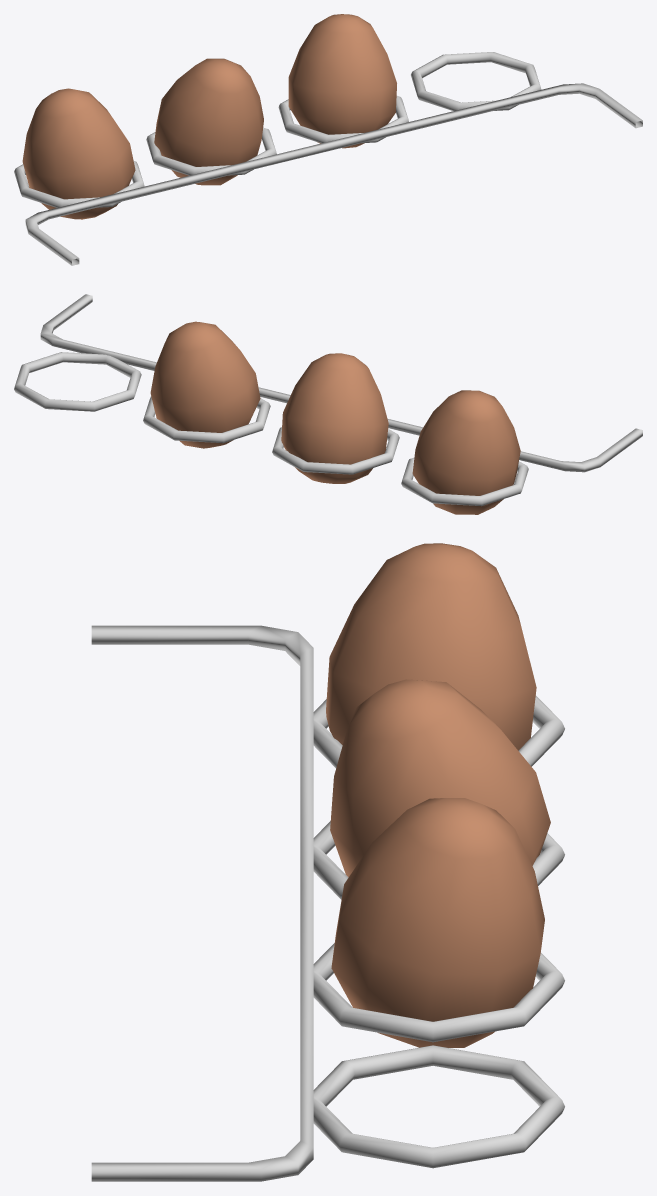
File: egg_shelf01.fbx
3 views of the same model, one above another, from view 1: azimuth 30°, elevation 25°; view 2: azimuth 150°, elevation 25°; view 3: azimuth 270°, elevation 25° (orthographic). The views are drawn at different scales.
Visible parts, largest first — view 1: egg_shelf_01; view 2: egg_shelf_01; view 3: egg_shelf_01.
Part boxes in pixels (x1,y1,x2,y2): egg_shelf_01: [14, 14, 642, 265]; egg_shelf_01: [14, 294, 642, 514]; egg_shelf_01: [91, 543, 564, 1181].
Bounding box in the file's own units: 4.05 × 0.8586 × 1.49.
